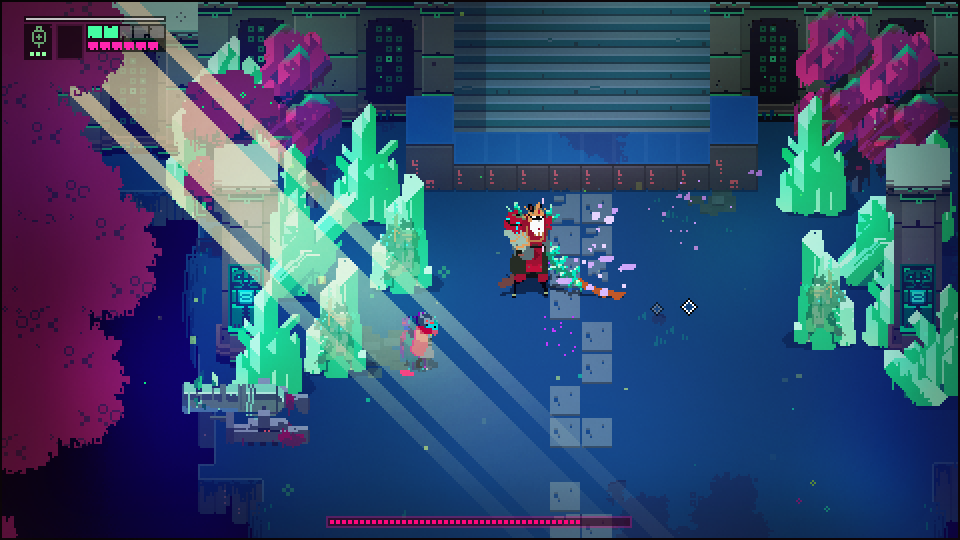hanged_man: (494, 193, 597, 308)
player: (408, 315, 434, 372)
